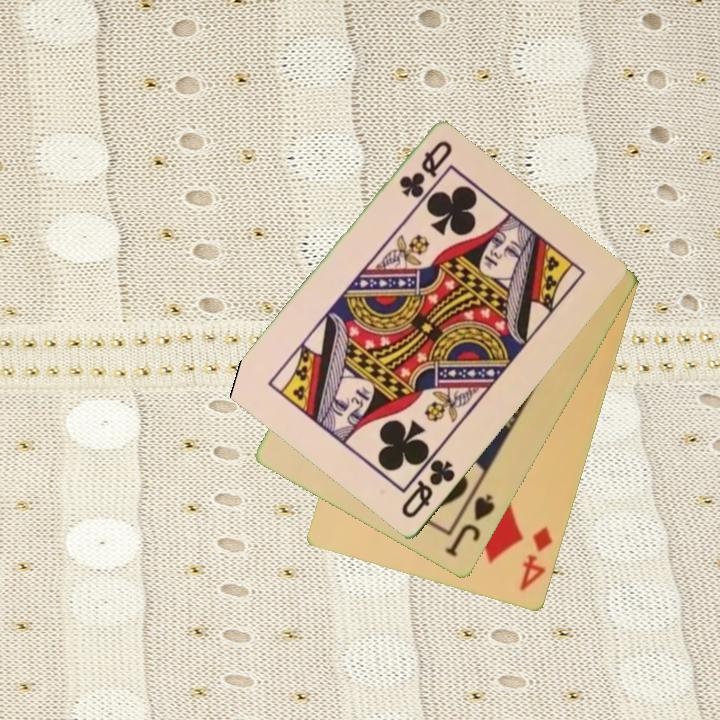4d: (516, 523, 556, 594)
Js: (441, 491, 498, 561)
Qc: (397, 456, 459, 522), (395, 137, 456, 202)
